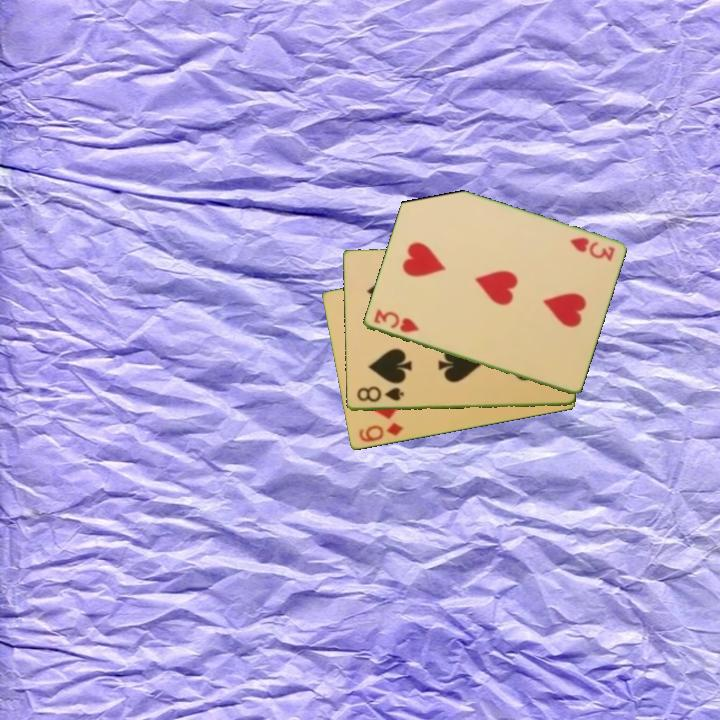3h: (370, 305, 421, 336), (566, 234, 617, 264)
6d: (355, 419, 406, 445)
8s: (353, 384, 406, 405)
